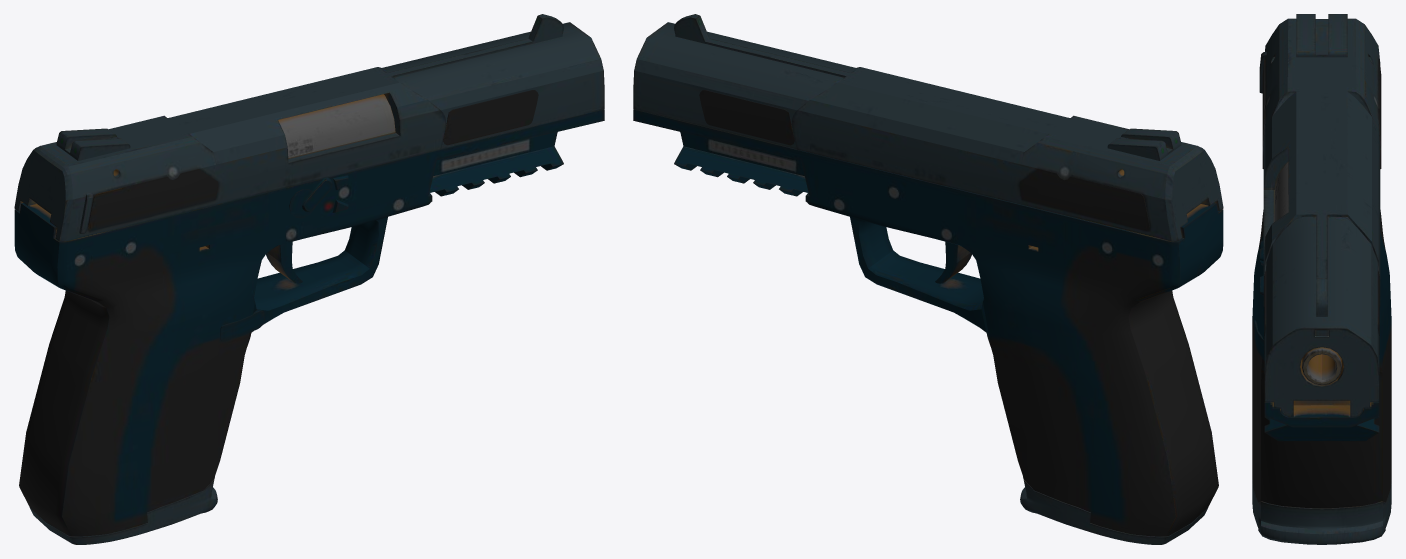
Rendered from g_fiveseven.glb.
3 renders of one model, left to right at view 1: azimuth 30°, elevation 25°; view 2: azimuth 150°, elevation 25°; view 3: azimuth 270°, elevation 25°, orthographic. The views are drawn at different scales.
Parts seen in each view (by area): view 1: Main_Part_Lowpoly__0, slide_piece, mag_piece; view 2: Main_Part_Lowpoly__0, slide_piece, mag_piece; view 3: slide_piece, Main_Part_Lowpoly__0, mag_piece.
Part boxes in pixels (box(x1,y1,x2,y2)): Main_Part_Lowpoly__0: box(14, 109, 604, 536); slide_piece: box(14, 14, 604, 241); mag_piece: box(29, 477, 217, 544); Main_Part_Lowpoly__0: box(633, 109, 1223, 536); slide_piece: box(633, 14, 1223, 241); mag_piece: box(1020, 477, 1208, 544); slide_piece: box(1259, 14, 1381, 417); Main_Part_Lowpoly__0: box(1252, 210, 1391, 508); mag_piece: box(1252, 480, 1391, 544).
Bounding box in the file's own units: 116 × 79.77 × 21.33.
Materials: 1 (1 with a texture image).
